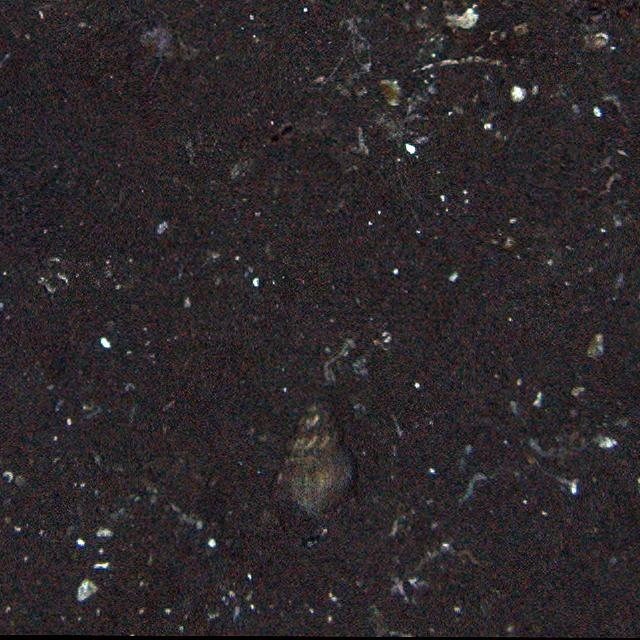whelk: (286, 398, 353, 511)
